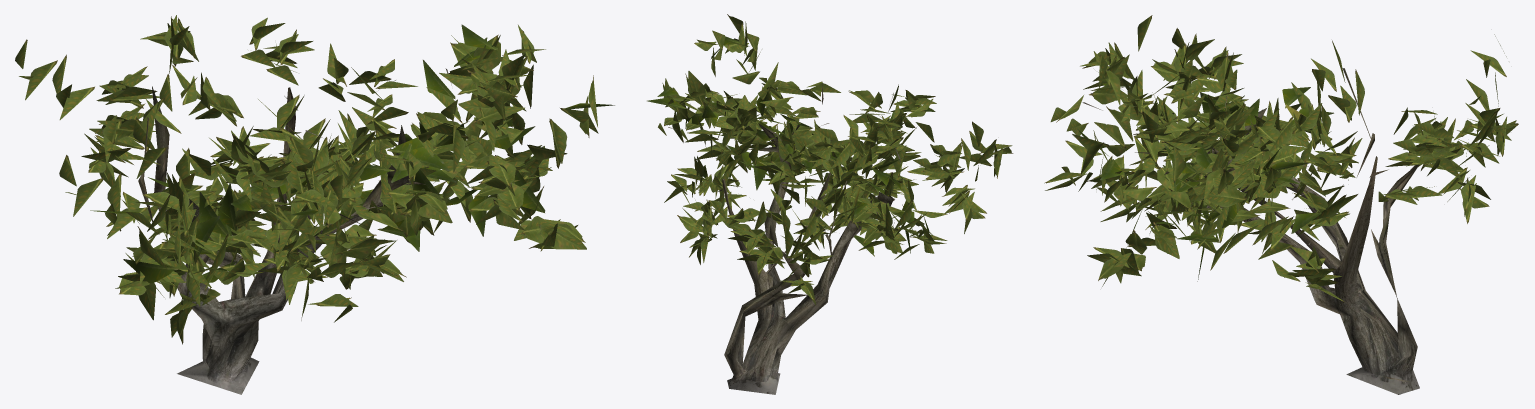
File: forest-horizon.glb
3 views of the same model, side by side, from view 1: azimuth 30°, elevation 25°; view 2: azimuth 150°, elevation 25°; view 3: azimuth 270°, elevation 25° (orthographic). The views are drawn at different scales.
Visible parts, largest first — view 1: island_tree_02_LOD0; view 2: island_tree_02_LOD0; view 3: island_tree_02_LOD0.
Boxes of the visible parts, x1,y1,x2,y2 form: island_tree_02_LOD0: (15,15,614,394); island_tree_02_LOD0: (647,14,1013,394); island_tree_02_LOD0: (1044,15,1518,394).
Size of the model in its own units: 3.9 by 3.34 by 4.25.
Materials: 3 (3 with a texture image).
